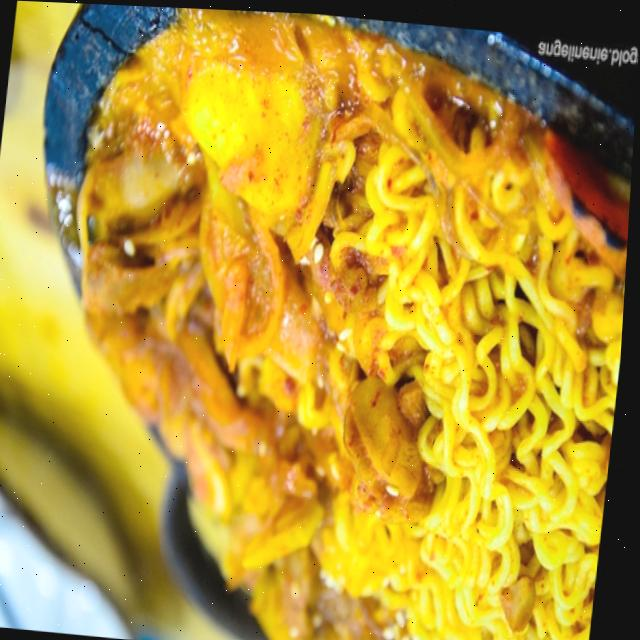鸡肉料理 含炸鸡: (13, 1, 640, 631)
